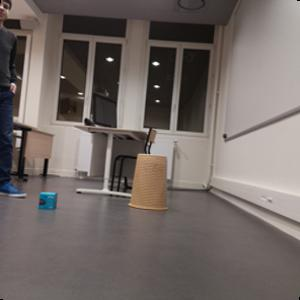medium: (128, 153, 170, 212)
small: (37, 191, 58, 210)
